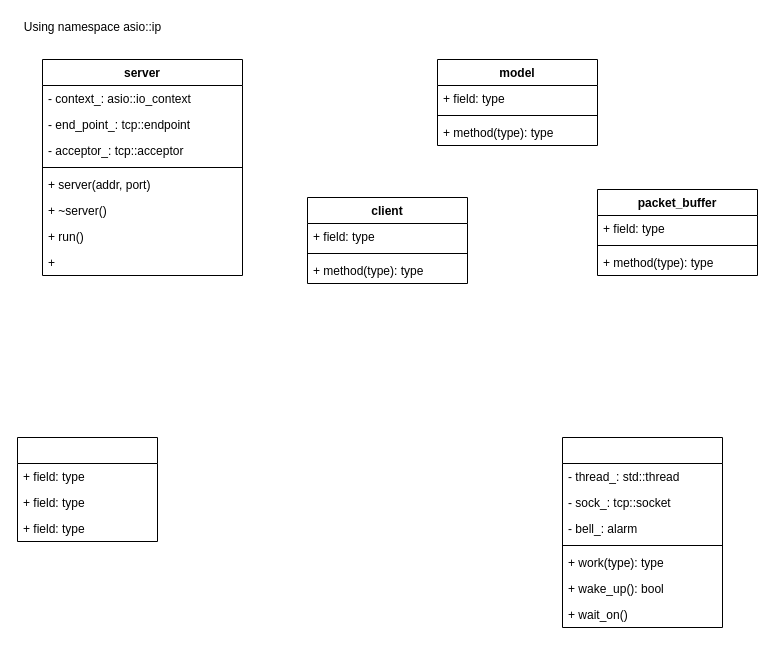
Image size: 775x647. Some labels were removed from this diagram. Each missing label, with the box of its shape:
asio::thread_pool: (16, 436, 158, 542)
worker: (562, 436, 722, 628)
